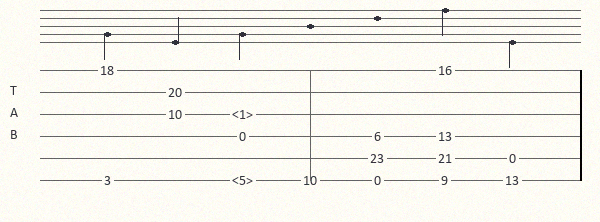0: (239, 130, 250, 143), (374, 174, 385, 187), (509, 152, 520, 165)
10: (168, 108, 186, 121), (303, 174, 321, 187)
13: (438, 130, 456, 143), (505, 174, 523, 187)
16: (438, 64, 456, 77)
18: (100, 64, 118, 77)
20: (168, 86, 186, 99)
21: (438, 152, 456, 165)
23: (370, 152, 388, 165)
3: (104, 174, 115, 187)
6: (374, 130, 385, 143)
9: (441, 174, 452, 187)
harmonic: (232, 174, 257, 187), (232, 108, 257, 121)
